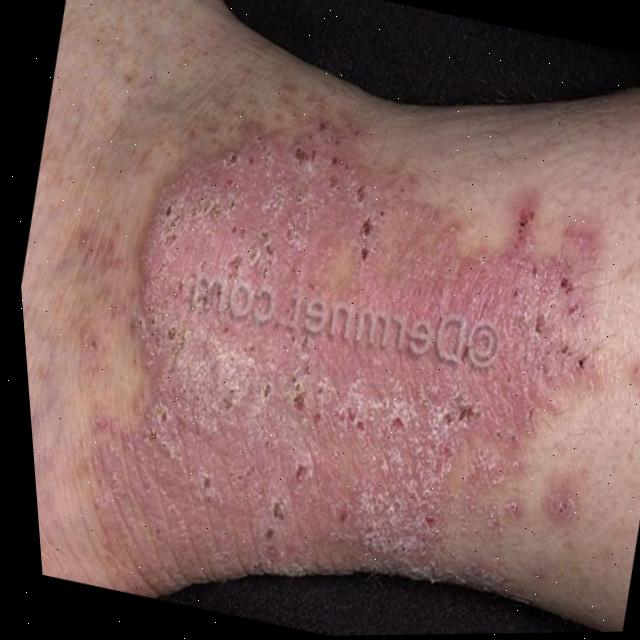Eczema: (63, 118, 640, 612)
